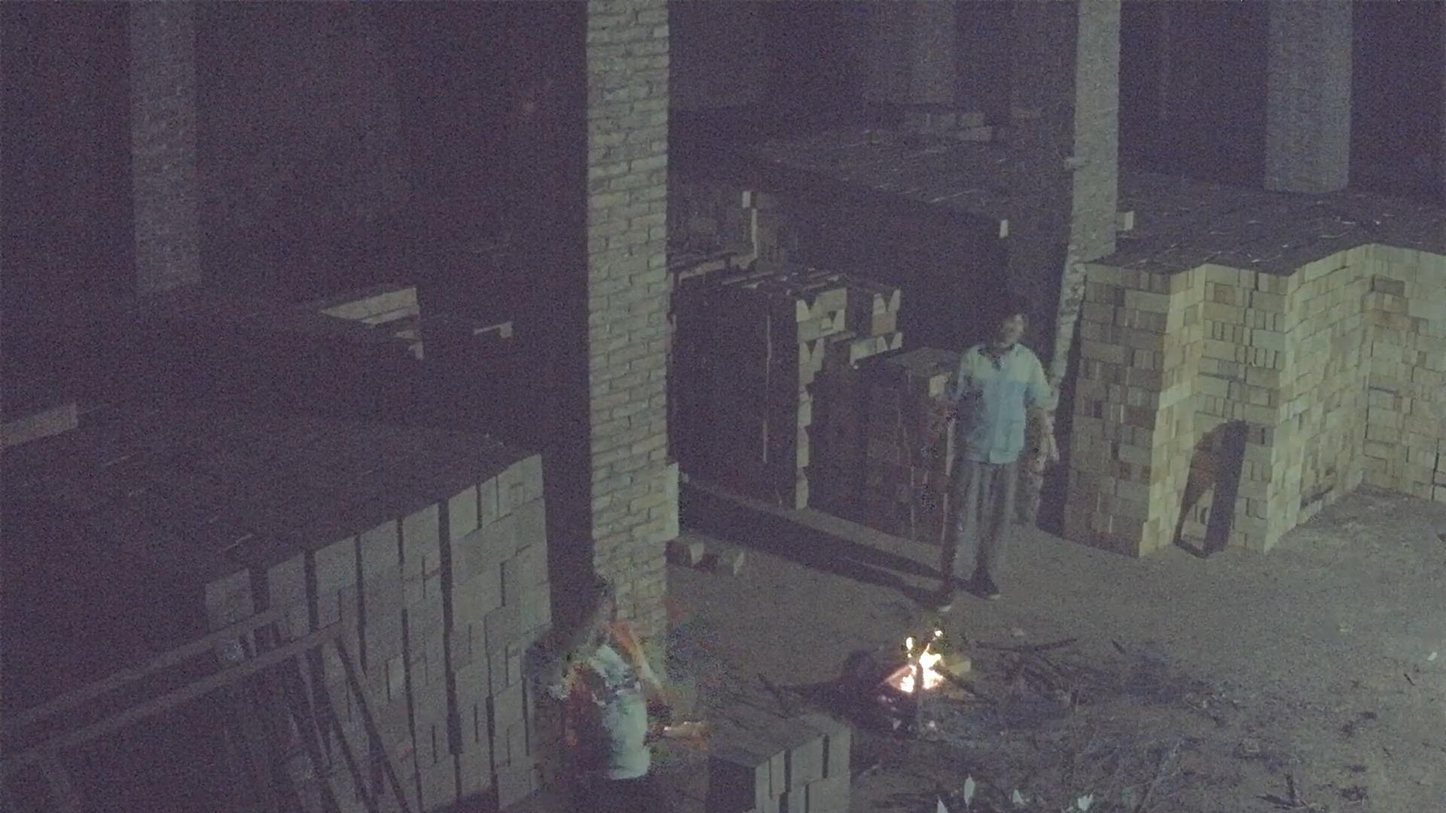fire: (899, 628, 946, 694)
